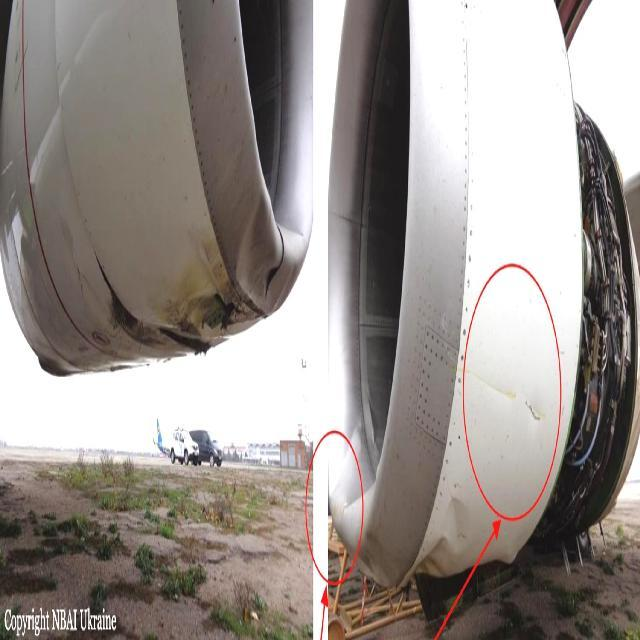crack: (527, 399, 543, 431)
dent: (412, 492, 473, 589), (234, 195, 279, 302)
